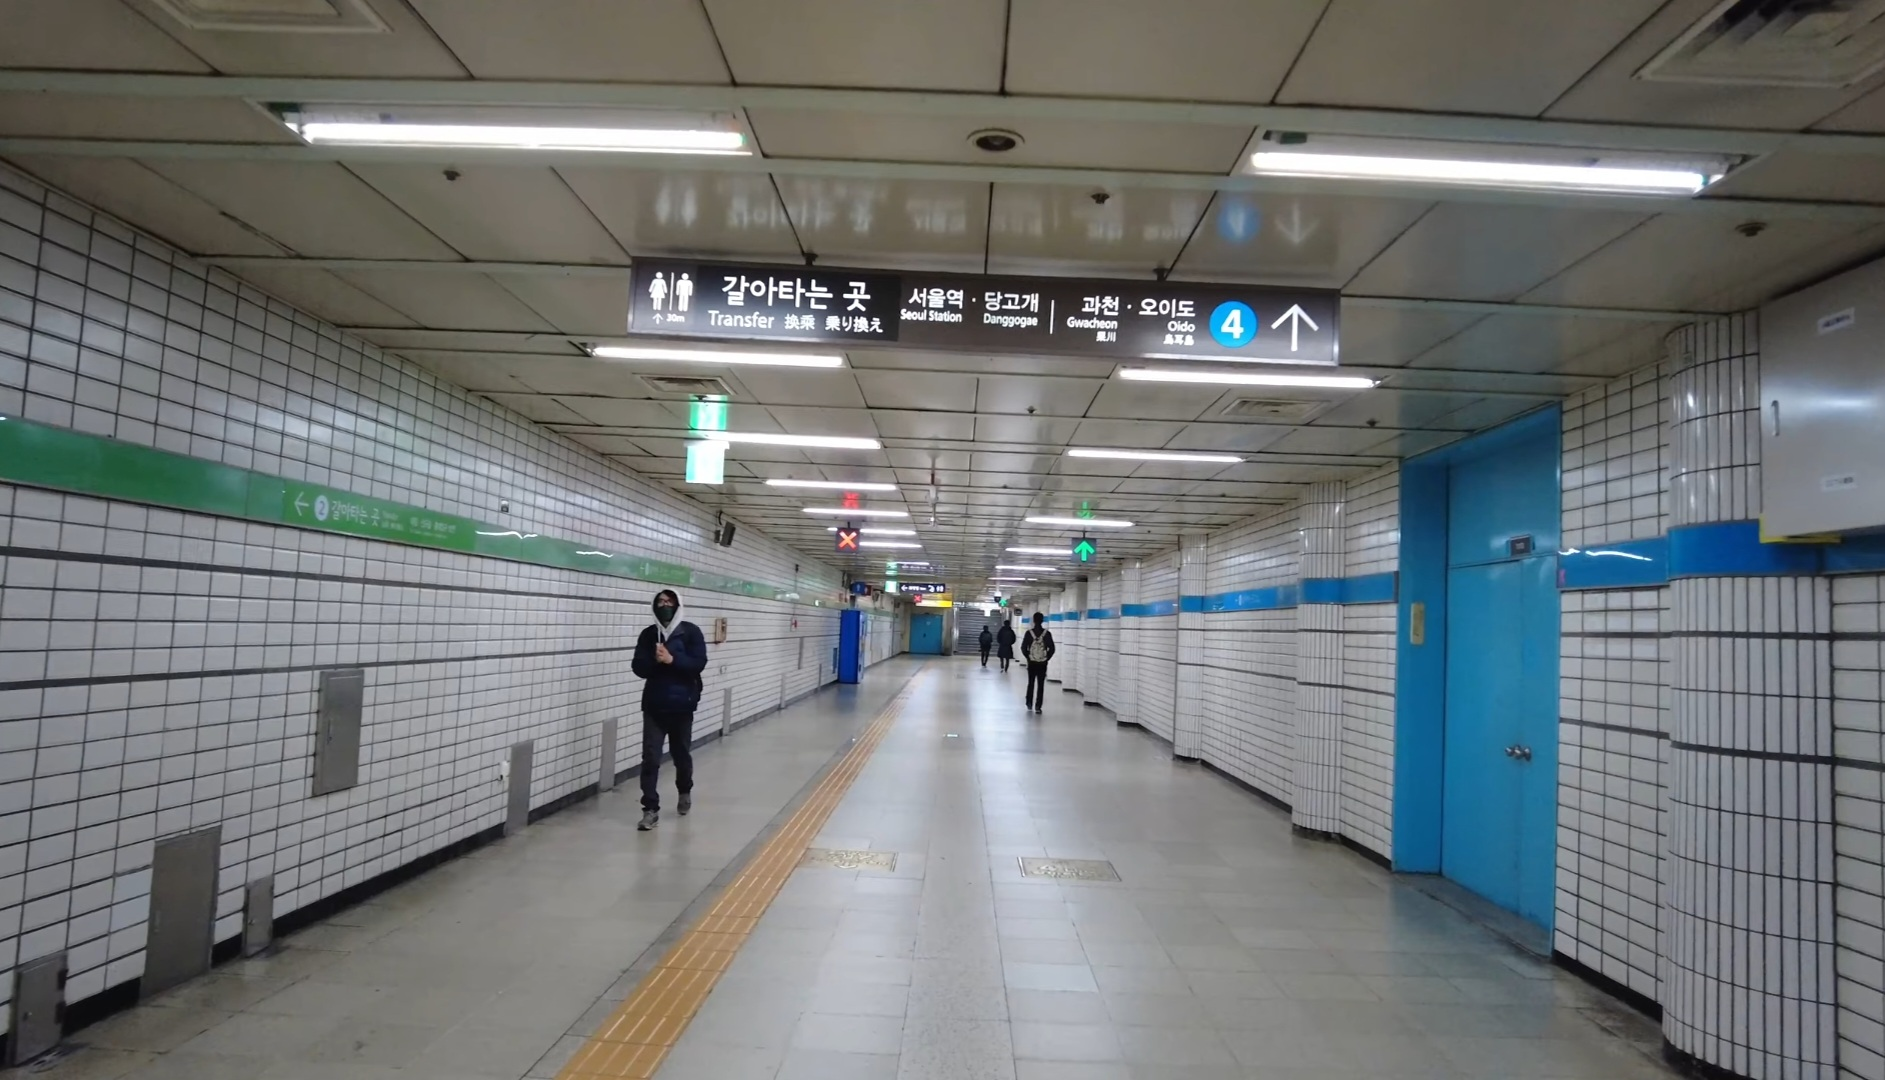signBoard: (621, 245, 1349, 379)
